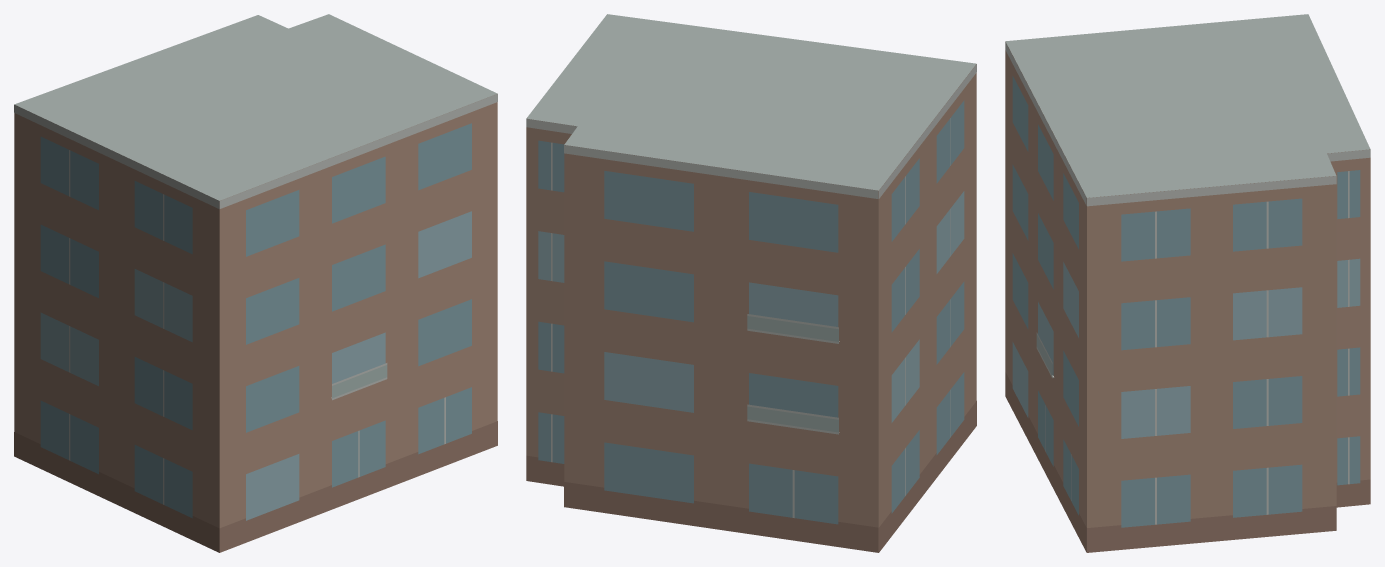
Rendered from survey-upis-32680147.glb.
3 views of the same model, side by side, from view 1: azimuth 30°, elevation 25°; view 2: azimuth 150°, elevation 25°; view 3: azimuth 270°, elevation 25° (orthographic). The views are drawn at different scales.
Parts seen in each view (by area): view 1: survey-upis-32680147.tmp; view 2: survey-upis-32680147.tmp; view 3: survey-upis-32680147.tmp.
Part boxes in pixels (x1,y1,x2,y2): survey-upis-32680147.tmp: [14, 14, 497, 552]; survey-upis-32680147.tmp: [526, 14, 976, 552]; survey-upis-32680147.tmp: [1005, 14, 1370, 552].
Size of the model in its own units: 11.46 by 10.3 by 9.62.
